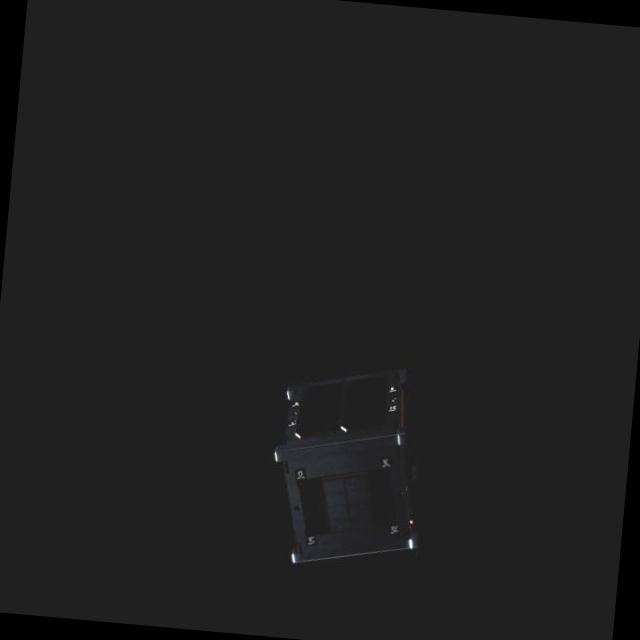satellite: (262, 353, 443, 584)
